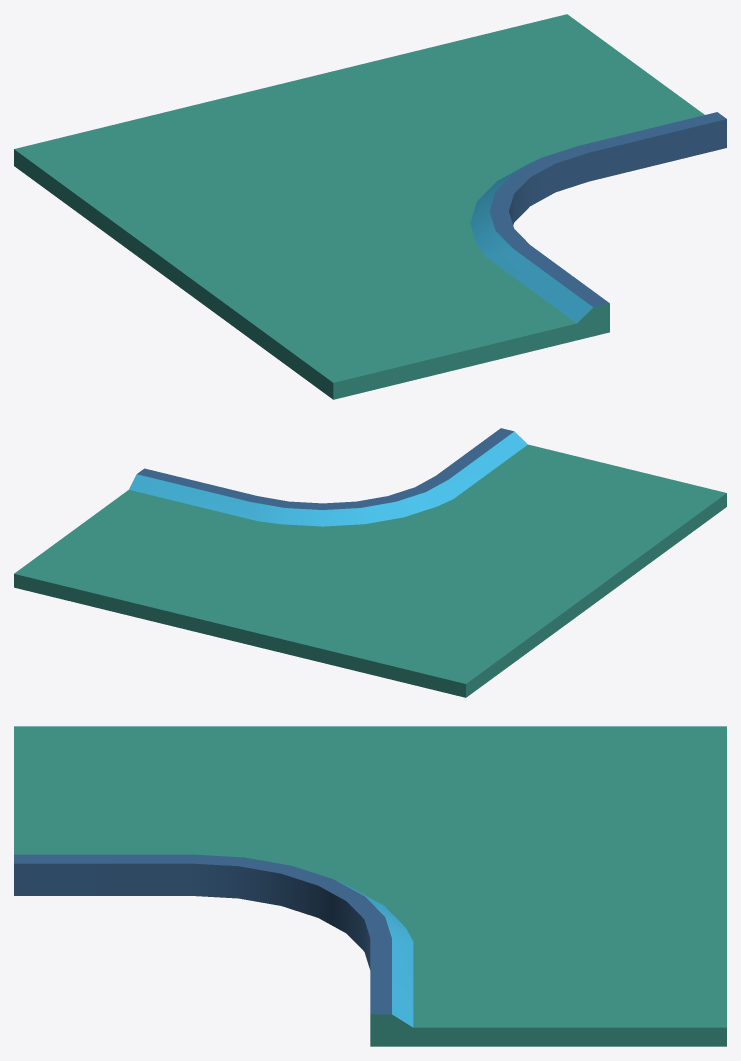
Rendered from WaterInnerCorner.fbx.
3 renders of one model, top to bottom at view 1: azimuth 30°, elevation 25°; view 2: azimuth 150°, elevation 25°; view 3: azimuth 270°, elevation 25°, orthographic. The views are drawn at different scales.
Parts seen in each view (by area): view 1: WaterInnerCorner; view 2: WaterInnerCorner; view 3: WaterInnerCorner.
Boxes of the visible parts, bbox=[...] form: WaterInnerCorner: bbox=[14, 14, 726, 399]; WaterInnerCorner: bbox=[14, 428, 726, 697]; WaterInnerCorner: bbox=[14, 726, 726, 1046].
Bounding box in the file's own units: 2 × 2 × 0.1.
